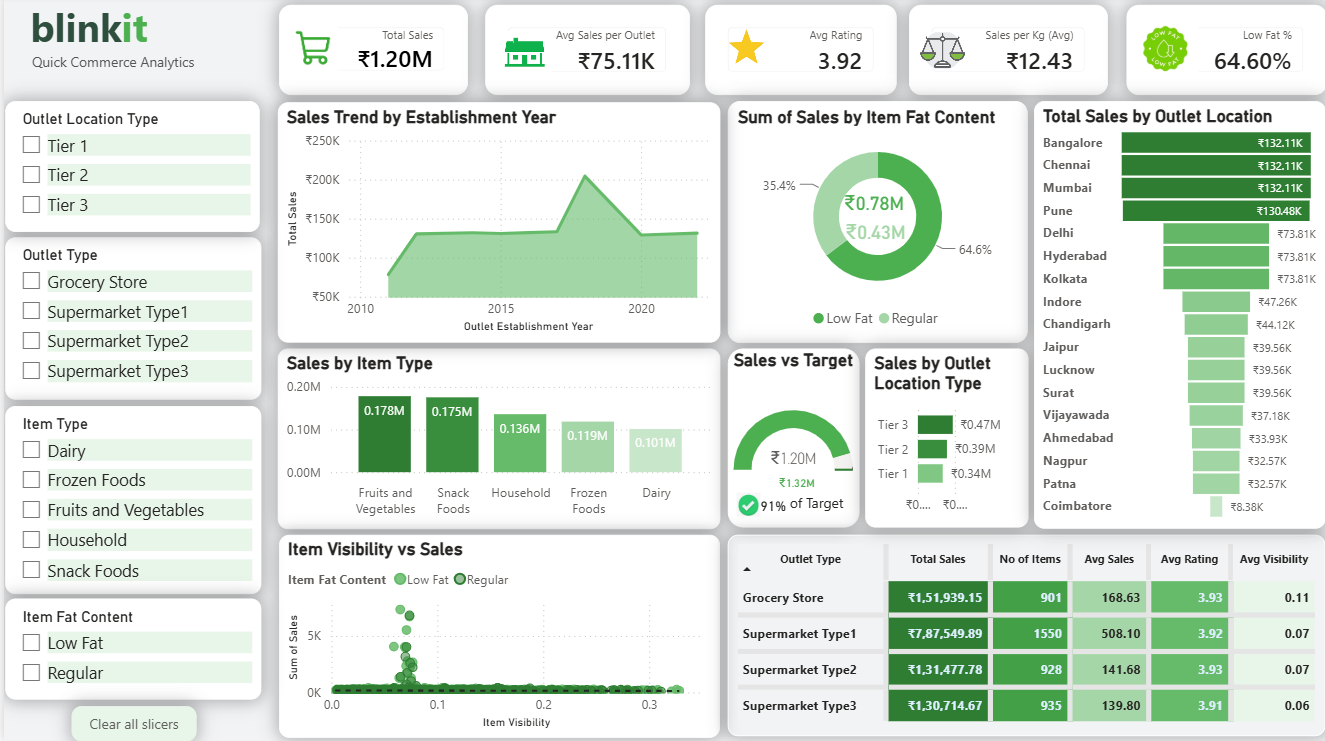

This screenshot's page, from the dashboard's own definition file:
{"tool":"powerbi","page":{"name":"Dashboard","canvas":[1280,720],"ordinal":0},"visuals":[{"type":"textbox","box":[0,0,228.4,104.5],"z":0},{"type":"cardVisual","fields":{"Data":["BlinkIT Grocery Data.Total Sales"]},"box":[265.4,8.4,182.2,86.9],"z":1000},{"type":"image","box":[275.1,27.7,49.5,45.8],"z":2000},{"type":"cardVisual","fields":{"Data":["BlinkIT Grocery Data.Avg Sales per Outlet"]},"box":[464.5,8.9,197.6,87.2],"z":3000},{"type":"image","box":[477,33.8,51.6,40.9],"z":4000},{"type":"cardVisual","fields":{"Data":["BlinkIT Grocery Data.Avg Rating"]},"box":[676.3,8.9,185.1,87.2],"z":5000},{"type":"cardVisual","fields":{"Data":["BlinkIT Grocery Data.Sales per Kg (Avg)"]},"box":[873.9,8.9,192.2,87.2],"z":6000},{"type":"donutChart","fields":{"Category":["Items Content.Item Fat Content"],"Y":["Sum(BlinkIT Grocery Data.Sales)"]},"box":[698.3,101,290,233.7],"z":7000},{"type":"card","fields":{"Values":["BlinkIT Grocery Data.Low Fat Sales"]},"box":[806.5,183.2,67.8,34.6],"z":8000},{"type":"card","fields":{"Values":["BlinkIT Grocery Data.Regular Sales"]},"box":[802.2,210.6,77.9,34.6],"z":9000},{"type":"image","box":[691.3,26.5,51.9,44.6],"z":10000},{"type":"clusteredColumnChart","title":"Sales by Item Type","fields":{"Category":["Items.Item Type"],"Y":["Sum(BlinkIT Grocery Data.Sales)"]},"box":[264,340.5,427.1,174.6],"z":11000},{"type":"scatterChart","title":"Item Visibility vs Sales","fields":{"Y":["Sum(BlinkIT Grocery Data.Sales)"],"X":["BlinkIT Grocery Data.Item Visibility"],"Series":["Items Content.Item Fat Content"]},"box":[265.5,519.4,425.6,196.2],"z":12000},{"type":"gauge","title":"Sales vs Target","fields":{"TargetValue":["BlinkIT Grocery Data.Target Sales"],"Y":["BlinkIT Grocery Data.Total Sales"],"MaxValue":["BlinkIT Grocery Data.Target Sales"]},"box":[698.3,340.5,127,173.1],"z":13000},{"type":"lineChart","title":"Sales Trend by Establishment Year","fields":{"Y":["BlinkIT Grocery Data.Total Sales"],"Category":["Outlet Info.Outlet Establishment Year"]},"box":[264.2,102.5,427.1,231.6],"z":14000},{"type":"slicer","fields":{"Values":["Outlet Info.Outlet Type"]},"box":[1.8,233.2,247.4,156.6],"z":15000},{"type":"slicer","fields":{"Values":["Outlet Location.Outlet Location Type"]},"box":[1.8,101.4,245.6,126.4],"z":16000},{"type":"slicer","fields":{"Values":["Items.Item Type"]},"box":[1.8,395.1,247.4,181.5],"z":17000},{"type":"slicer","fields":{"Values":["Items Content.Item Fat Content"]},"box":[1.8,582,247.4,97.9],"z":18000},{"type":"image","box":[878.3,35,55.5,35],"z":19000},{"type":"cardVisual","fields":{"Data":["BlinkIT Grocery Data.Low Fat %"]},"box":[1083.9,8.9,194,87.2],"z":20000},{"type":"image","box":[1087.8,20.2,64.9,62],"z":21000},{"type":"tableEx","fields":{"Values":["Outlet Info.Outlet Type","BlinkIT Grocery Data.Total Sales","BlinkIT Grocery Data.No of Items","BlinkIT Grocery Data.Avg Sales","BlinkIT Grocery Data.Avg Rating","BlinkIT Grocery Data.Avg Visibility"]},"box":[698.3,519.4,577.1,194.8],"z":22000},{"type":"barChart","title":"Sales by Outlet Location Type","fields":{"Category":["Outlet Location.Outlet Location Type"],"Y":["BlinkIT Grocery Data.Total Sales"]},"box":[831,340.5,157.3,173.1],"z":23000},{"type":"funnel","fields":{"Category":["Cities.Outlet Location"],"Y":["BlinkIT Grocery Data.Total Sales"]},"box":[994.1,101,281.3,412.6],"z":24000},{"type":"actionButton","box":[64.9,685.3,121.2,34.6],"z":25000},{"type":"card","fields":{"Values":["BlinkIT Grocery Data.Sales % of Target"]},"box":[724.3,479,37.5,27.4],"z":26000},{"type":"card","fields":{"Values":["BlinkIT Grocery Data.Target Sales"]},"box":[728.6,457.4,73.6,28.9],"z":27000},{"type":"textbox","box":[743,480.4,82.2,27.4],"z":28000},{"type":"image","box":[707,477.6,23.1,26],"z":29000}]}

Visuals, with their boxes in screenshot pixels (x1, y1, x2, y2), scaled from the page's 1280x720 canvas onto the 1325x741 screenshot:
textbox: bbox=(0, 0, 236, 108)
cardVisual - BlinkIT Grocery Data.Total Sales: bbox=(275, 9, 463, 98)
image: bbox=(285, 29, 336, 76)
cardVisual - BlinkIT Grocery Data.Avg Sales per Outlet: bbox=(481, 9, 685, 99)
image: bbox=(494, 35, 547, 77)
cardVisual - BlinkIT Grocery Data.Avg Rating: bbox=(700, 9, 892, 99)
cardVisual - BlinkIT Grocery Data.Sales per Kg (Avg): bbox=(905, 9, 1104, 99)
donutChart - Items Content.Item Fat Content x Sum(BlinkIT Grocery Data.Sales): bbox=(723, 104, 1023, 344)
card - BlinkIT Grocery Data.Low Fat Sales: bbox=(835, 189, 905, 224)
card - BlinkIT Grocery Data.Regular Sales: bbox=(830, 217, 911, 252)
image: bbox=(716, 27, 769, 73)
"Sales by Item Type" clusteredColumnChart: bbox=(273, 350, 715, 530)
"Item Visibility vs Sales" scatterChart: bbox=(275, 535, 715, 736)
"Sales vs Target" gauge: bbox=(723, 350, 854, 529)
"Sales Trend by Establishment Year" lineChart: bbox=(273, 105, 716, 344)
slicer - Outlet Info.Outlet Type: bbox=(2, 240, 258, 401)
slicer - Outlet Location.Outlet Location Type: bbox=(2, 104, 256, 234)
slicer - Items.Item Type: bbox=(2, 407, 258, 593)
slicer - Items Content.Item Fat Content: bbox=(2, 599, 258, 700)
image: bbox=(909, 36, 967, 72)
cardVisual - BlinkIT Grocery Data.Low Fat %: bbox=(1122, 9, 1323, 99)
image: bbox=(1126, 21, 1193, 85)
tableEx - Outlet Info.Outlet Type x BlinkIT Grocery Data.Total Sales: bbox=(723, 535, 1320, 735)
"Sales by Outlet Location Type" barChart: bbox=(860, 350, 1023, 529)
funnel - Cities.Outlet Location x BlinkIT Grocery Data.Total Sales: bbox=(1029, 104, 1320, 529)
actionButton: bbox=(67, 705, 193, 740)
card - BlinkIT Grocery Data.Sales % of Target: bbox=(750, 493, 789, 521)
card - BlinkIT Grocery Data.Target Sales: bbox=(754, 471, 830, 500)
textbox: bbox=(769, 494, 854, 523)
image: bbox=(732, 492, 756, 518)
